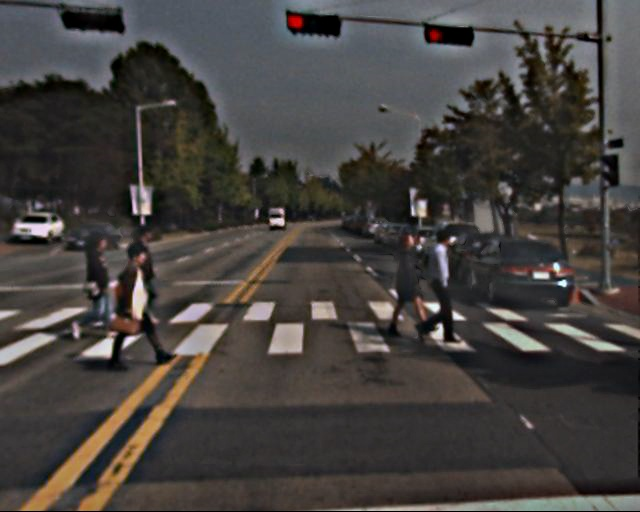person: (112, 243, 165, 372), (418, 228, 466, 345), (75, 233, 120, 343), (387, 230, 431, 337), (121, 225, 164, 330)
